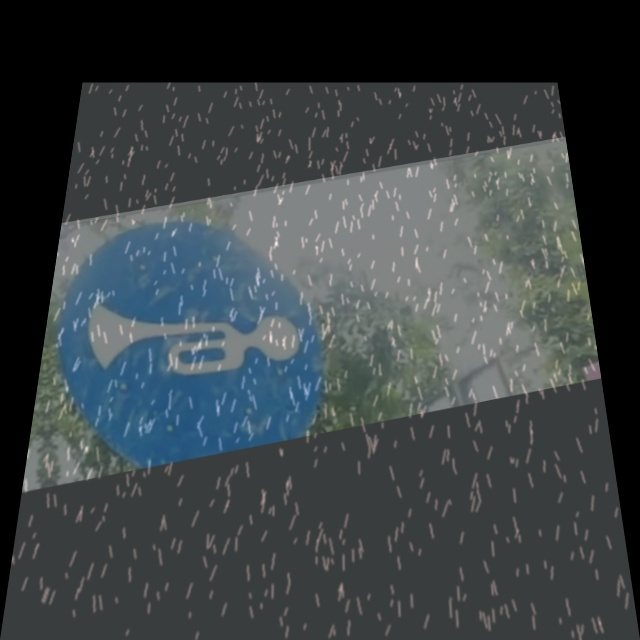Compulsory_Sound_Horn: (30, 201, 341, 473)
